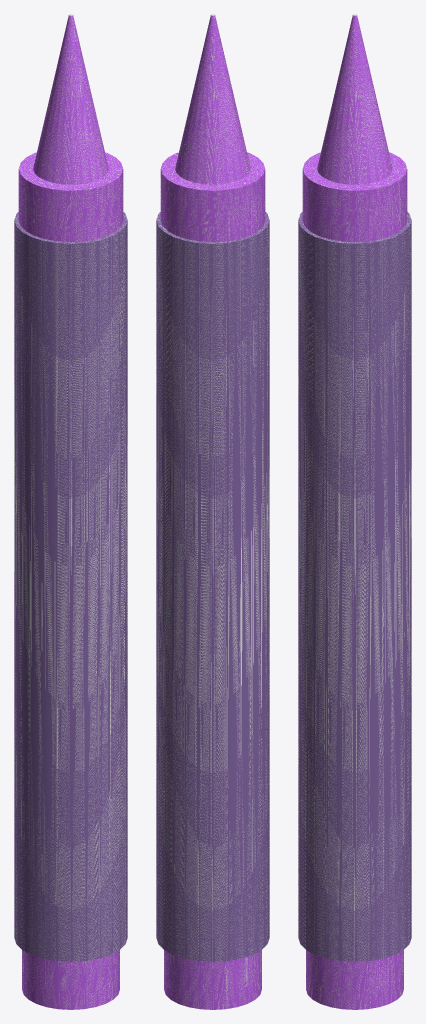
Rendered from purplecrayon.dae.
3 renders of one model, left to right at view 1: azimuth 30°, elevation 25°; view 2: azimuth 150°, elevation 25°; view 3: azimuth 330°, elevation 25°, orthographic.
Parts seen in each view (by area): view 1: PurpleCrayon (×4); view 2: PurpleCrayon (×4); view 3: PurpleCrayon (×4).
Boxes of the visible parts, x1,y1,x2,y2 form: PurpleCrayon (×4): [14, 15, 127, 1009]; PurpleCrayon (×4): [156, 15, 269, 1009]; PurpleCrayon (×4): [298, 15, 411, 1009].
Bounding box in the file's own units: 0.3937 × 0.3937 × 3.74.
